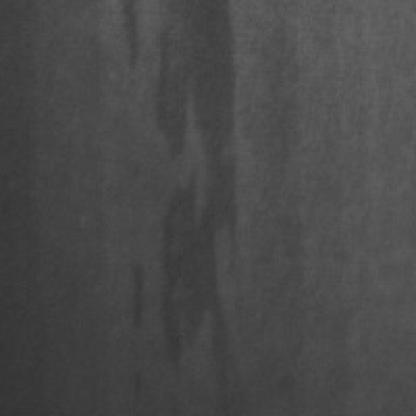inclusion: (146, 6, 237, 366)
